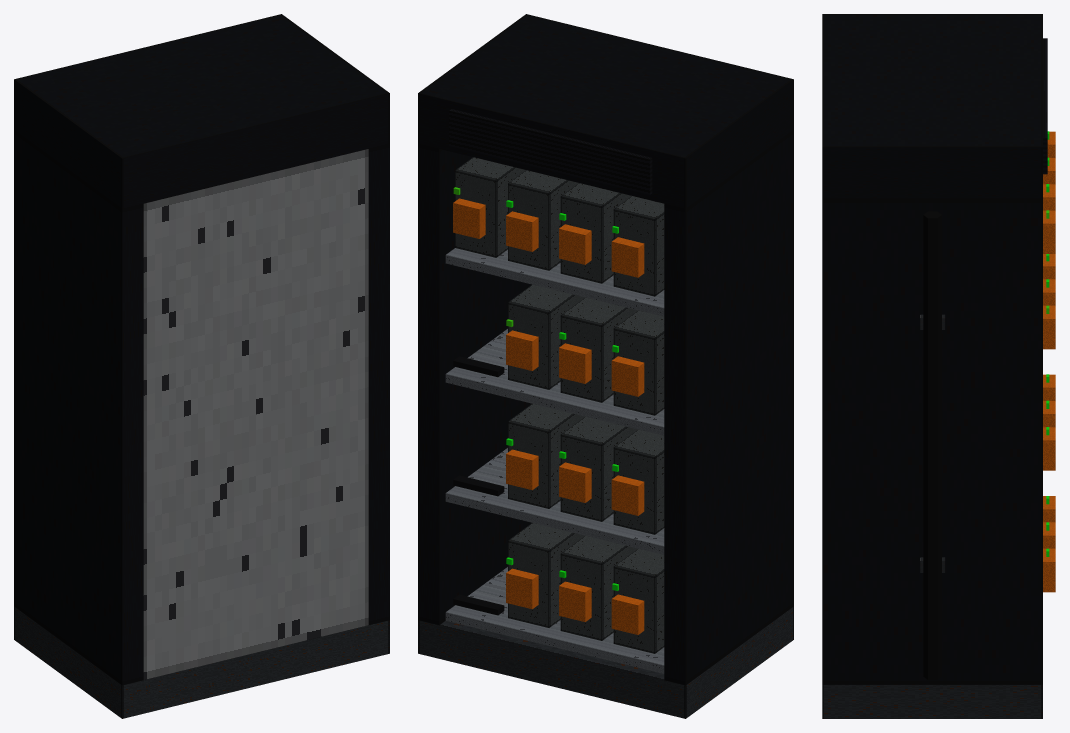
The model's file is consciousness_archive.glb.
The picture shows the model from 3 angles, left to right: view 1: azimuth 30°, elevation 25°; view 2: azimuth 150°, elevation 25°; view 3: azimuth 270°, elevation 25°; orthographic projection. The views are drawn at different scales.
Parts seen in each view (by area): view 1: consciousness_archive; view 2: consciousness_archive; view 3: consciousness_archive.
Part boxes in pixels (box(x1,y1,x2,y2)): consciousness_archive: box(14, 14, 389, 718); consciousness_archive: box(418, 14, 793, 718); consciousness_archive: box(822, 14, 1055, 718).
Bounding box in the file's own units: 1.06 × 2 × 0.74.
Materials: 1 (1 with a texture image).
